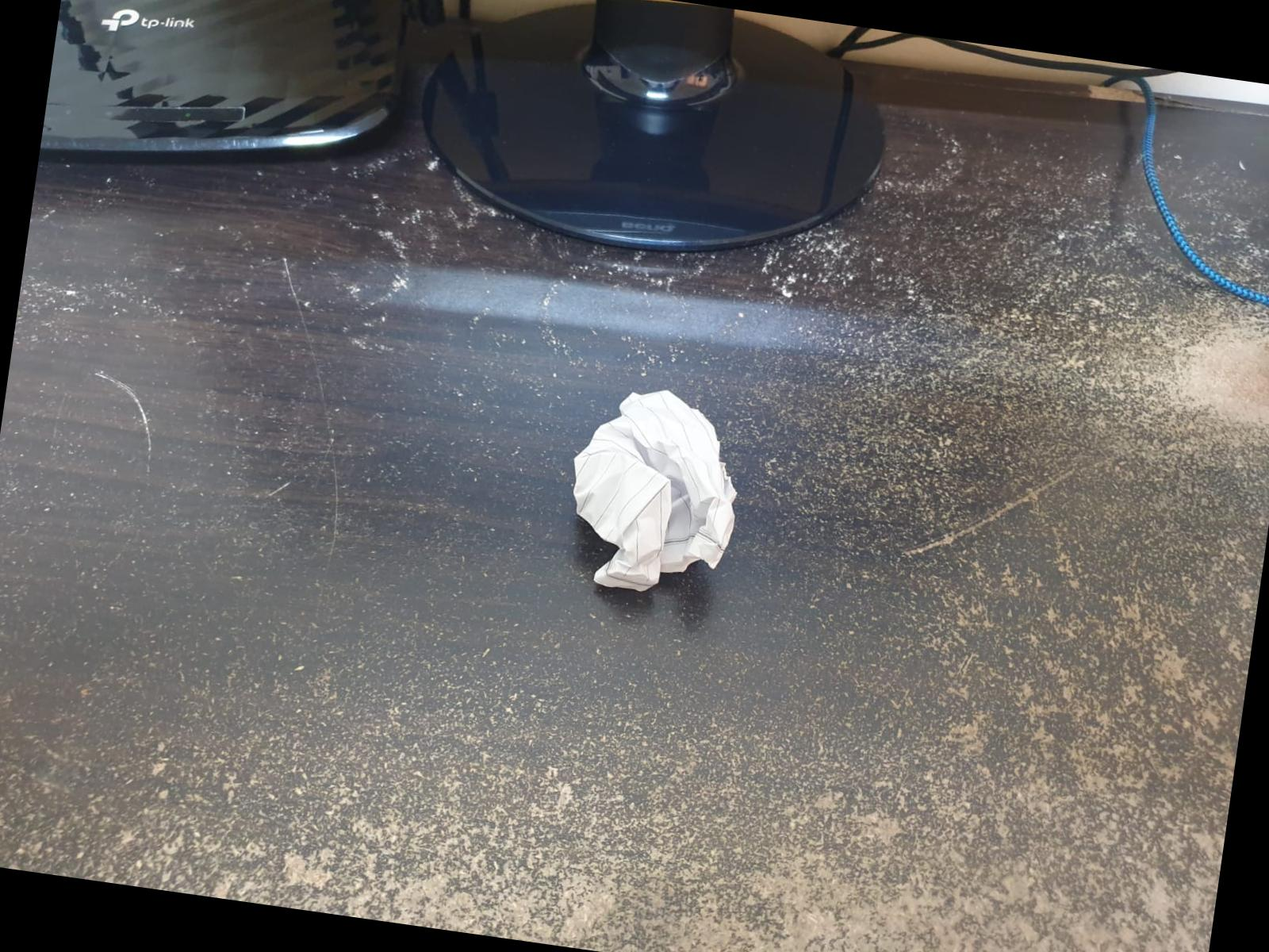Kertas: (567, 387, 748, 592)
